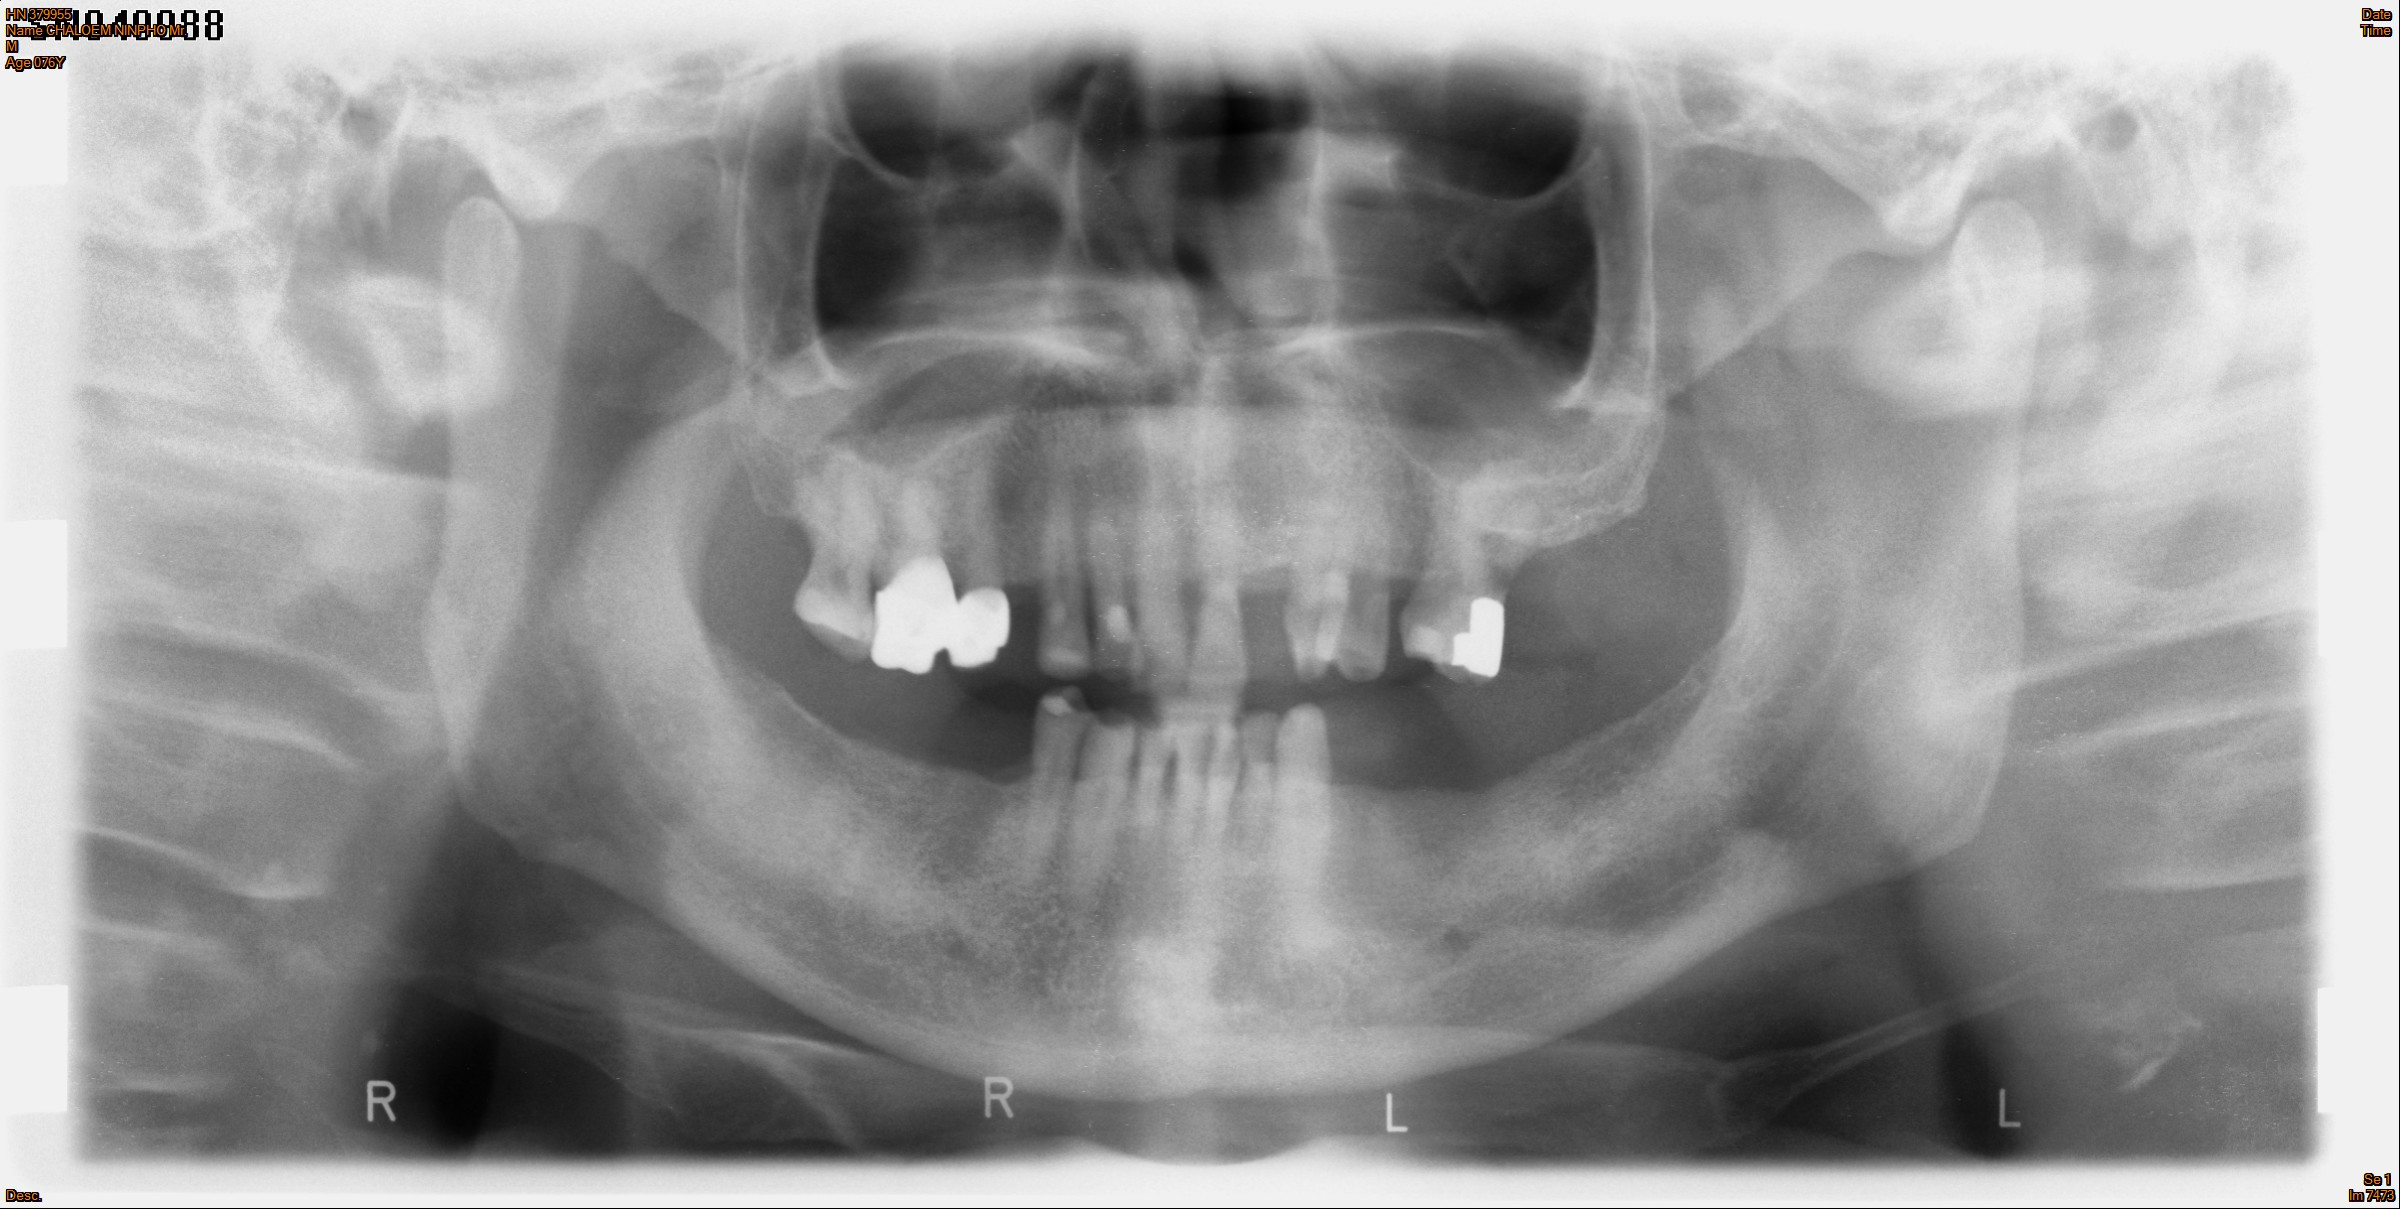periodontitis: (1395, 460, 1514, 694), (1279, 477, 1404, 685), (785, 446, 883, 668), (1011, 686, 1094, 907), (872, 470, 960, 679)
